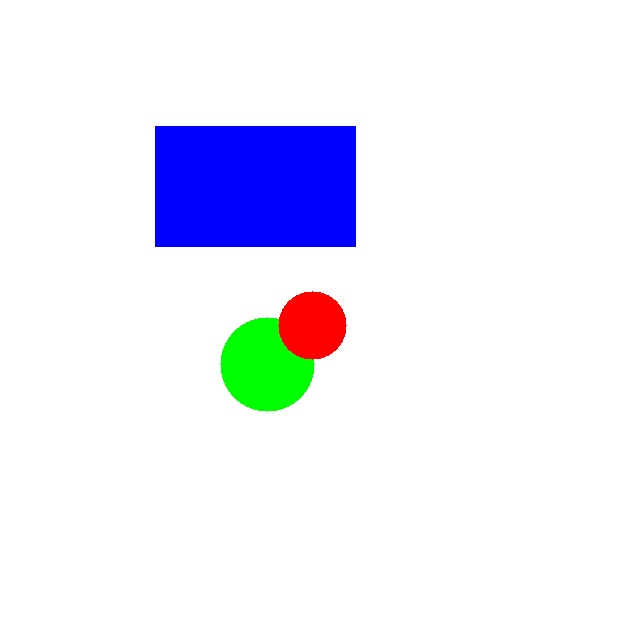cartao: (155, 126, 355, 246)
rosca_externa: (220, 317, 314, 411)
rosca_interna: (278, 291, 346, 359)
